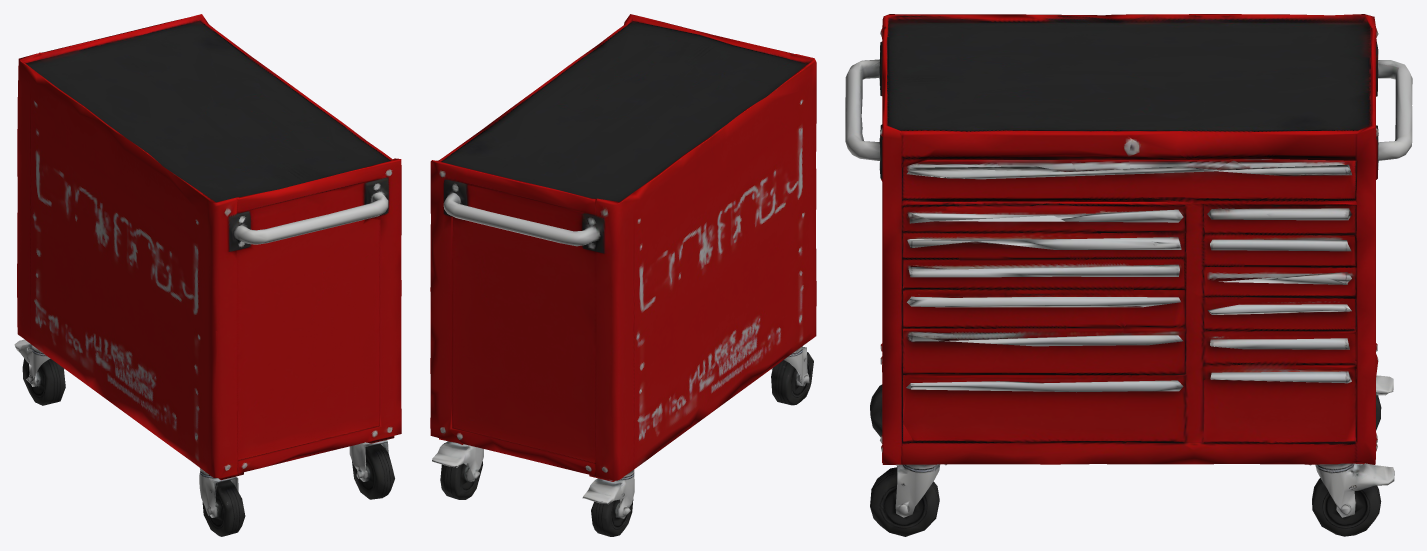
Rendered from tool_chest.glb.
3 views of the same model, side by side, from view 1: azimuth 30°, elevation 25°; view 2: azimuth 150°, elevation 25°; view 3: azimuth 270°, elevation 25° (orthographic). The views are drawn at different scales.
Visible parts, largest first — view 1: tripo_node_1bc0e5c4-0629-488f-a4cf-f9d9ce846e2d; view 2: tripo_node_1bc0e5c4-0629-488f-a4cf-f9d9ce846e2d; view 3: tripo_node_1bc0e5c4-0629-488f-a4cf-f9d9ce846e2d.
Part boxes in pixels (x1,y1,x2,y2): tripo_node_1bc0e5c4-0629-488f-a4cf-f9d9ce846e2d: (14,14,401,536); tripo_node_1bc0e5c4-0629-488f-a4cf-f9d9ce846e2d: (430,14,816,536); tripo_node_1bc0e5c4-0629-488f-a4cf-f9d9ce846e2d: (845,14,1412,536).
Bounding box in the file's own units: 0.5383 × 0.9 × 1.1.
Materials: 1 (1 with a texture image).
